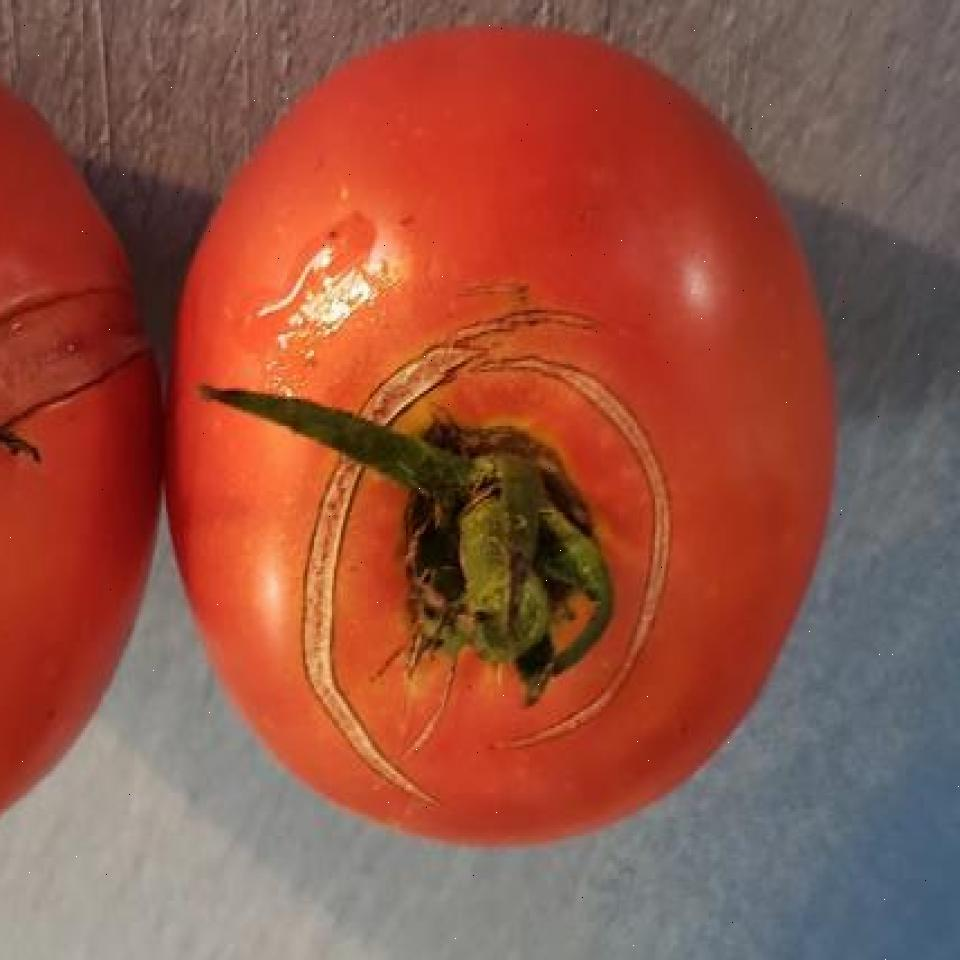Cracking: (492, 332, 703, 774), (290, 340, 482, 824), (420, 297, 618, 371)
